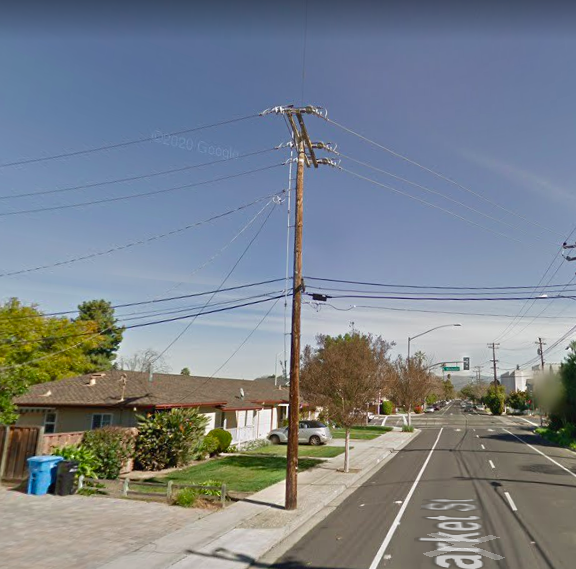utility_pole: (260, 92, 339, 184)
